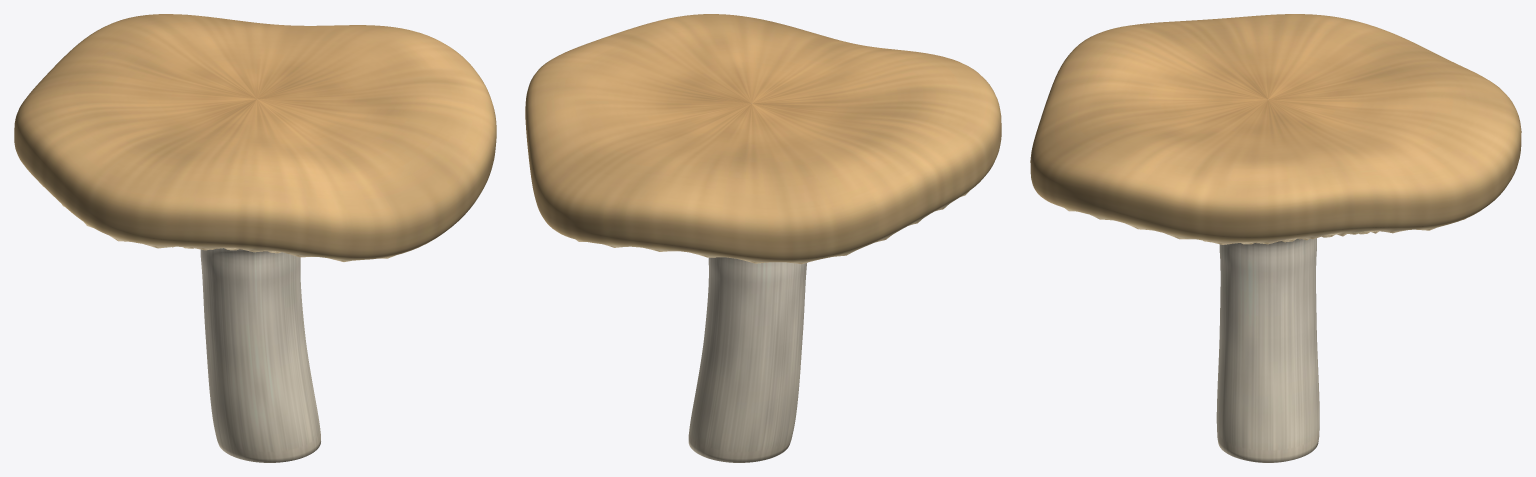
Rendered from hydnum-repandum-agg-drawn.glb.
3 renders of one model, left to right at view 1: azimuth 30°, elevation 25°; view 2: azimuth 150°, elevation 25°; view 3: azimuth 270°, elevation 25°, orthographic. The views are drawn at different scales.
Bounding box in the file's own units: 0.8106 × 0.6766 × 0.8605.
Materials: 1 (1 with a texture image).
